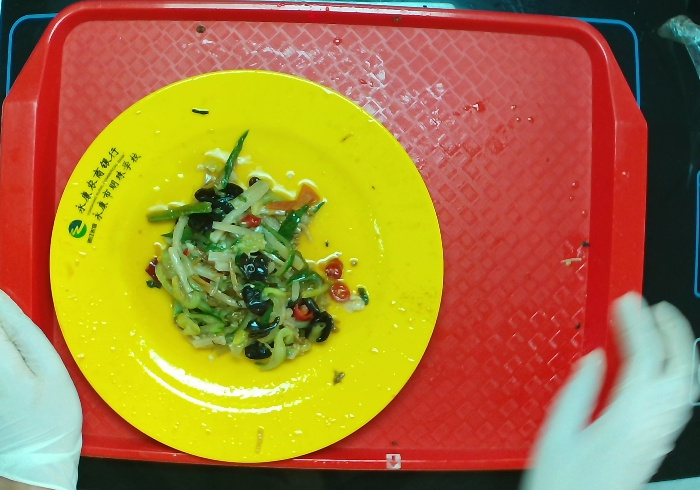YKMZ-Huang_Se_Mian_Pan: (45, 65, 445, 462)
